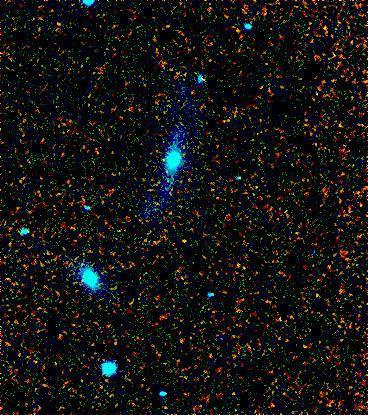star: (170, 227, 200, 257)
